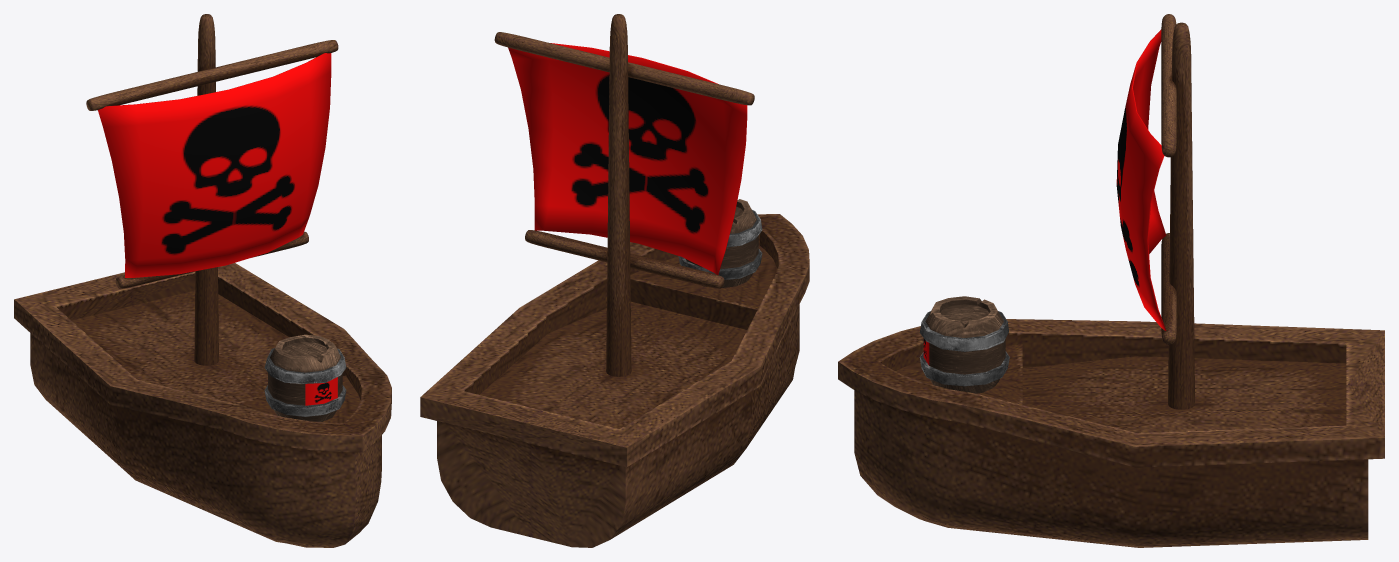
The model's file is Enemy_ExplosionShip_01.fbx.
3 views of the same model, side by side, from view 1: azimuth 30°, elevation 25°; view 2: azimuth 150°, elevation 25°; view 3: azimuth 270°, elevation 25° (orthographic). The views are drawn at different scales.
Parts seen in each view (by area): view 1: Enemy_ExplosionShip_01; view 2: Enemy_ExplosionShip_01; view 3: Enemy_ExplosionShip_01.
Boxes of the visible parts, x1,y1,x2,y2 form: Enemy_ExplosionShip_01: [14, 14, 391, 547]; Enemy_ExplosionShip_01: [420, 14, 809, 547]; Enemy_ExplosionShip_01: [838, 14, 1384, 547].
Size of the model in its own units: 539 by 926 by 941.
